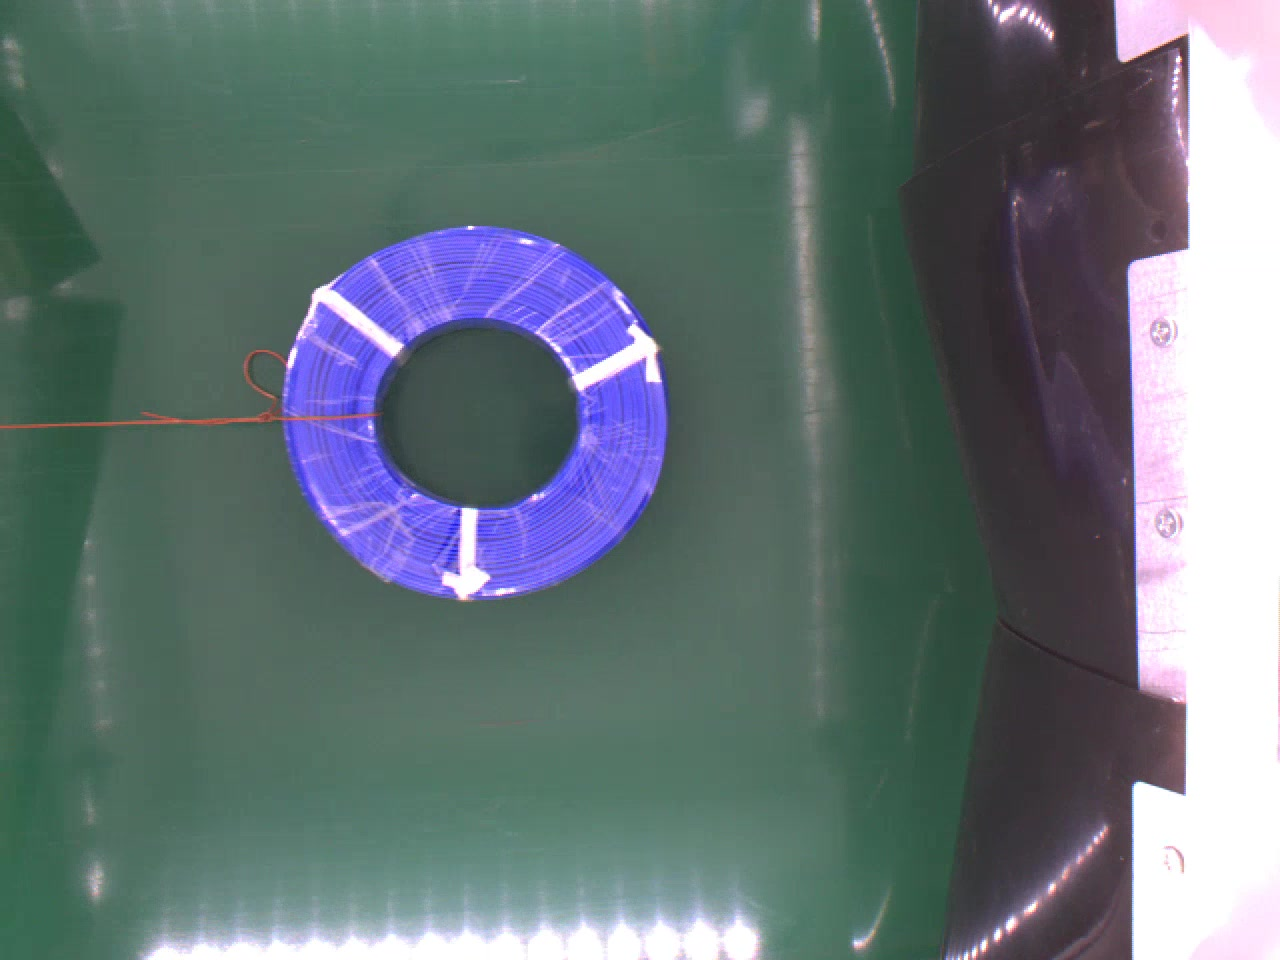blue: (278, 225, 670, 603)
